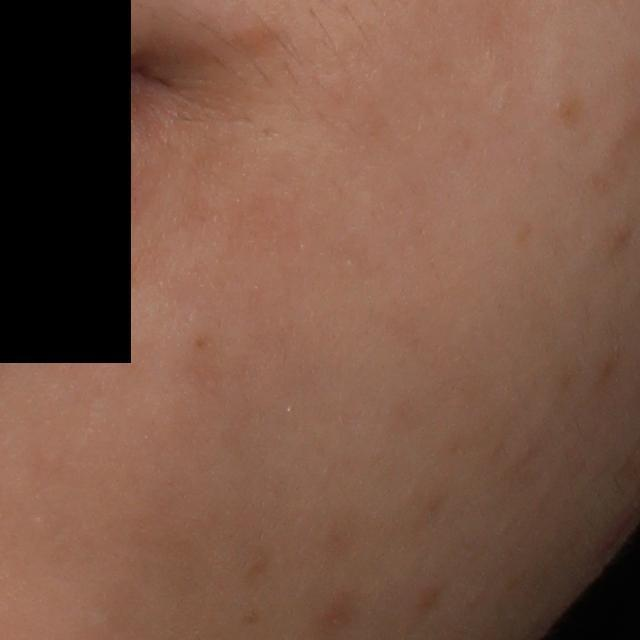papule: (416, 578, 443, 612)
